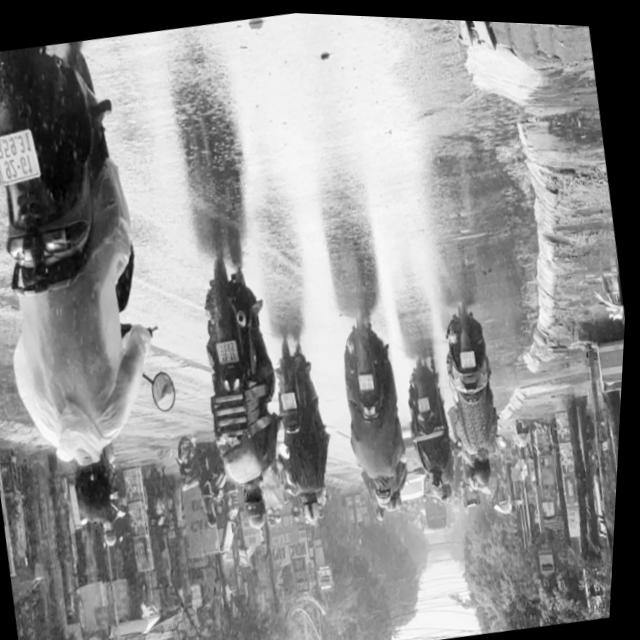helmet: (243, 481, 274, 529), (304, 491, 328, 526), (376, 474, 398, 506), (477, 453, 499, 484)
licenseplate: (0, 30, 204, 560), (177, 238, 310, 537), (328, 308, 426, 514), (262, 323, 351, 529), (432, 297, 521, 494), (397, 344, 470, 507)
motorcyclist: (69, 448, 126, 527)
nohelmet: (0, 127, 42, 186), (218, 338, 243, 364), (462, 346, 480, 365), (283, 389, 301, 408), (361, 370, 378, 389), (420, 394, 435, 409)
